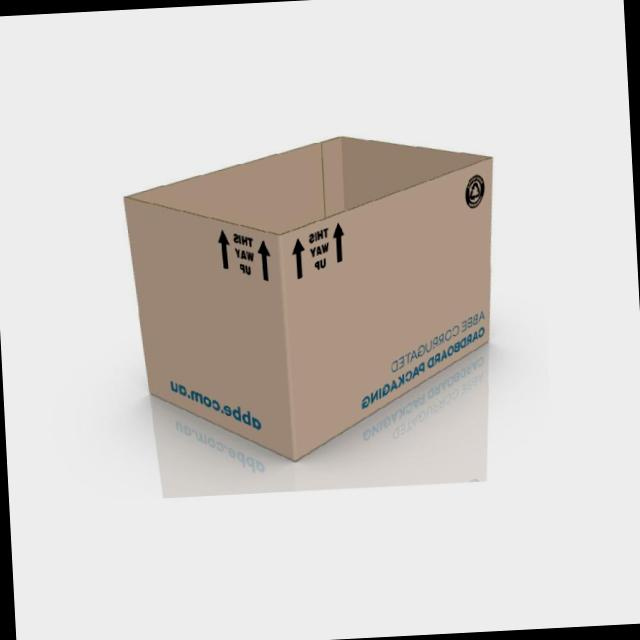Garbage: (112, 104, 526, 482)
